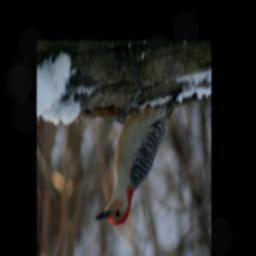Woodpecker: (94, 88, 182, 226)
